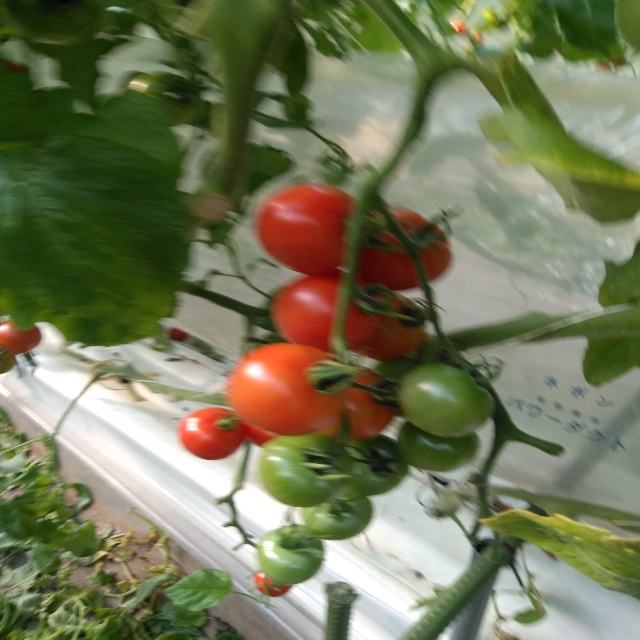l_fully_ripened: (271, 268, 388, 353), (254, 183, 360, 275), (357, 206, 452, 291), (179, 406, 243, 460), (0, 319, 41, 354), (254, 570, 293, 597)
l_green: (261, 432, 356, 508), (398, 363, 493, 438), (337, 433, 410, 498), (398, 420, 478, 472), (258, 524, 324, 584), (303, 491, 372, 541)
l_half_ripened: (230, 342, 347, 438), (314, 361, 398, 441), (347, 288, 424, 361)
